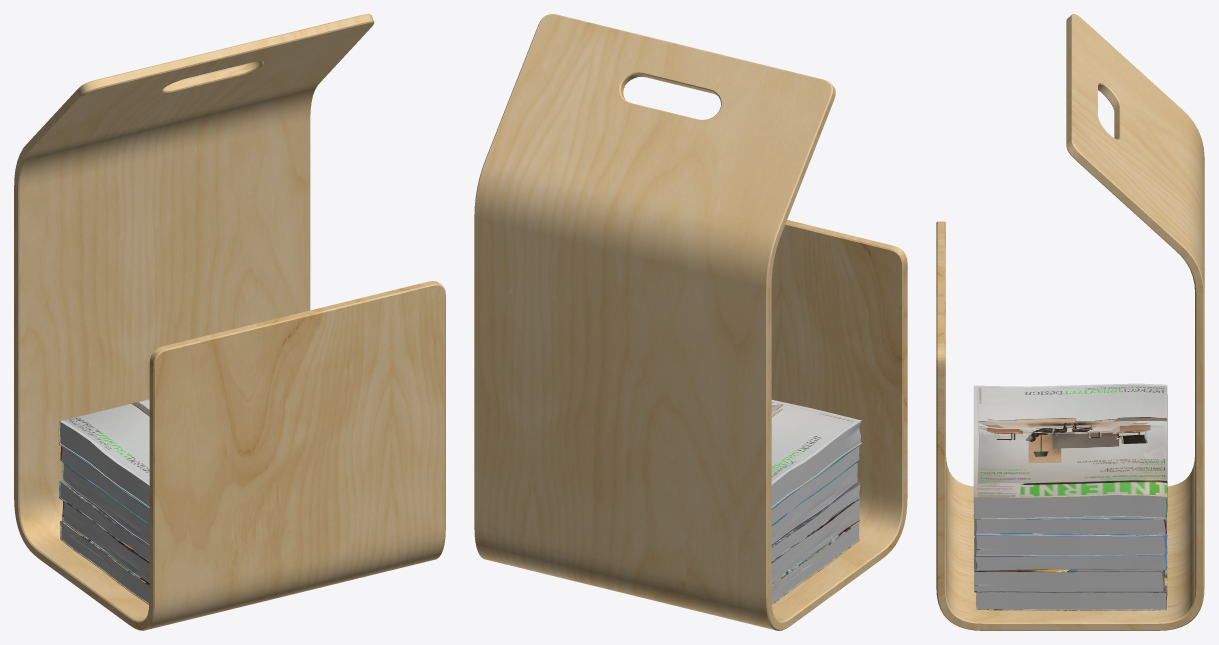
The model's file is Artek_Kanto_Rack_m_mat(1).fbx.
3 views of the same model, side by side, from view 1: azimuth 30°, elevation 25°; view 2: azimuth 150°, elevation 25°; view 3: azimuth 270°, elevation 25° (orthographic). The views are drawn at different scales.
Parts seen in each view (by area): view 1: Artek_Kanto_Rack_m_mat1; view 2: Artek_Kanto_Rack_m_mat1; view 3: Artek_Kanto_Rack_m_mat1.
Boxes of the visible parts, x1,y1,x2,y2 form: Artek_Kanto_Rack_m_mat1: (14,14,445,630); Artek_Kanto_Rack_m_mat1: (474,14,907,630); Artek_Kanto_Rack_m_mat1: (936,14,1204,630).
Size of the model in its own units: 34 by 28.3 by 56.5.
